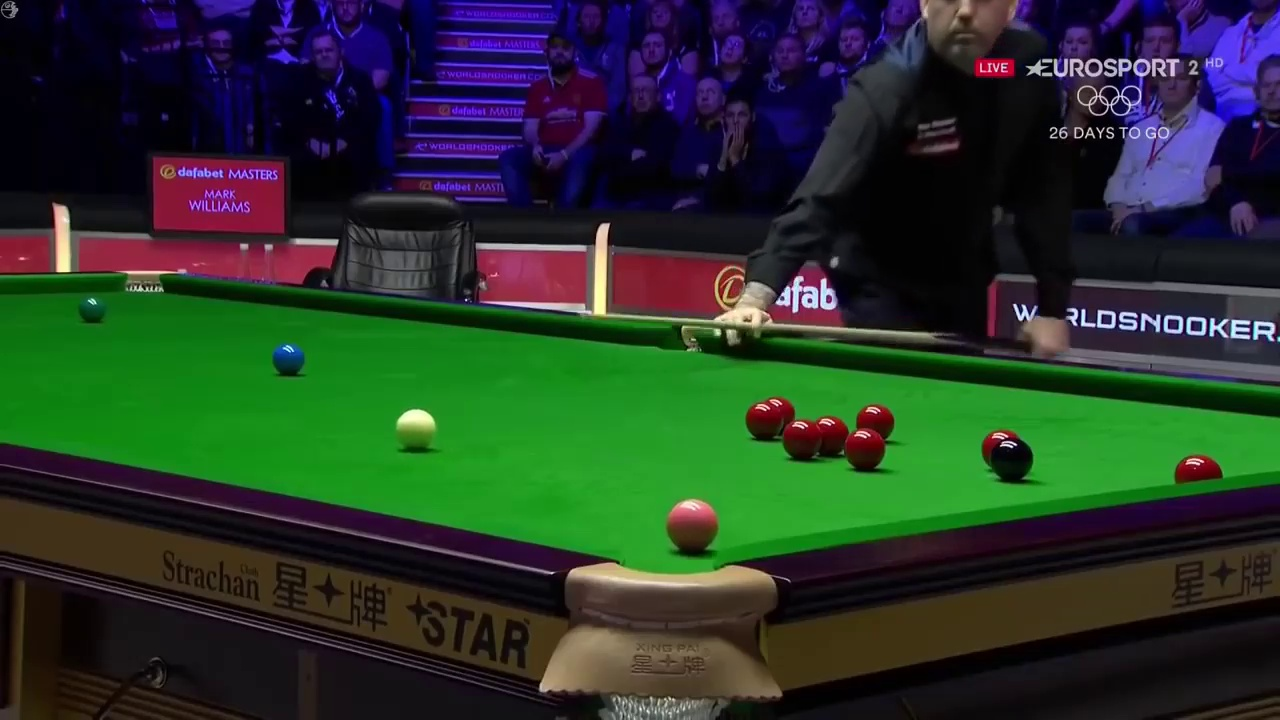ball: (664, 498, 721, 554), (392, 408, 441, 450), (845, 427, 886, 471), (781, 414, 819, 460), (992, 439, 1033, 481), (744, 400, 783, 441), (272, 341, 307, 374), (77, 290, 106, 321)
